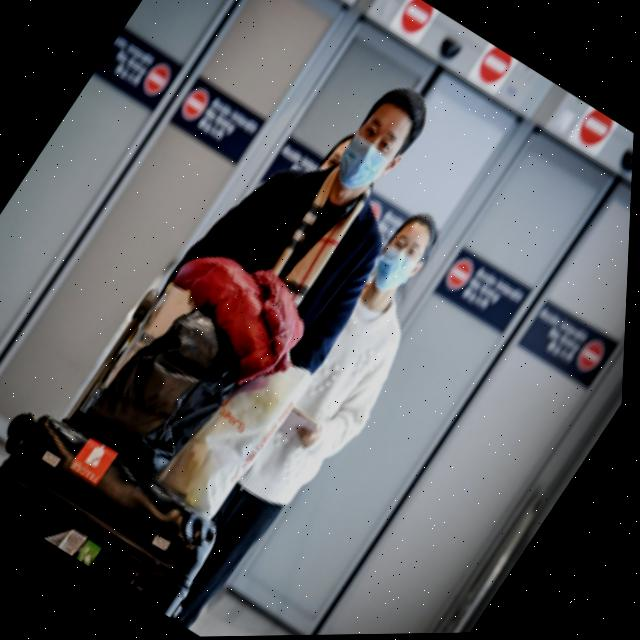Mask: (326, 122, 409, 206), (365, 239, 427, 303)
